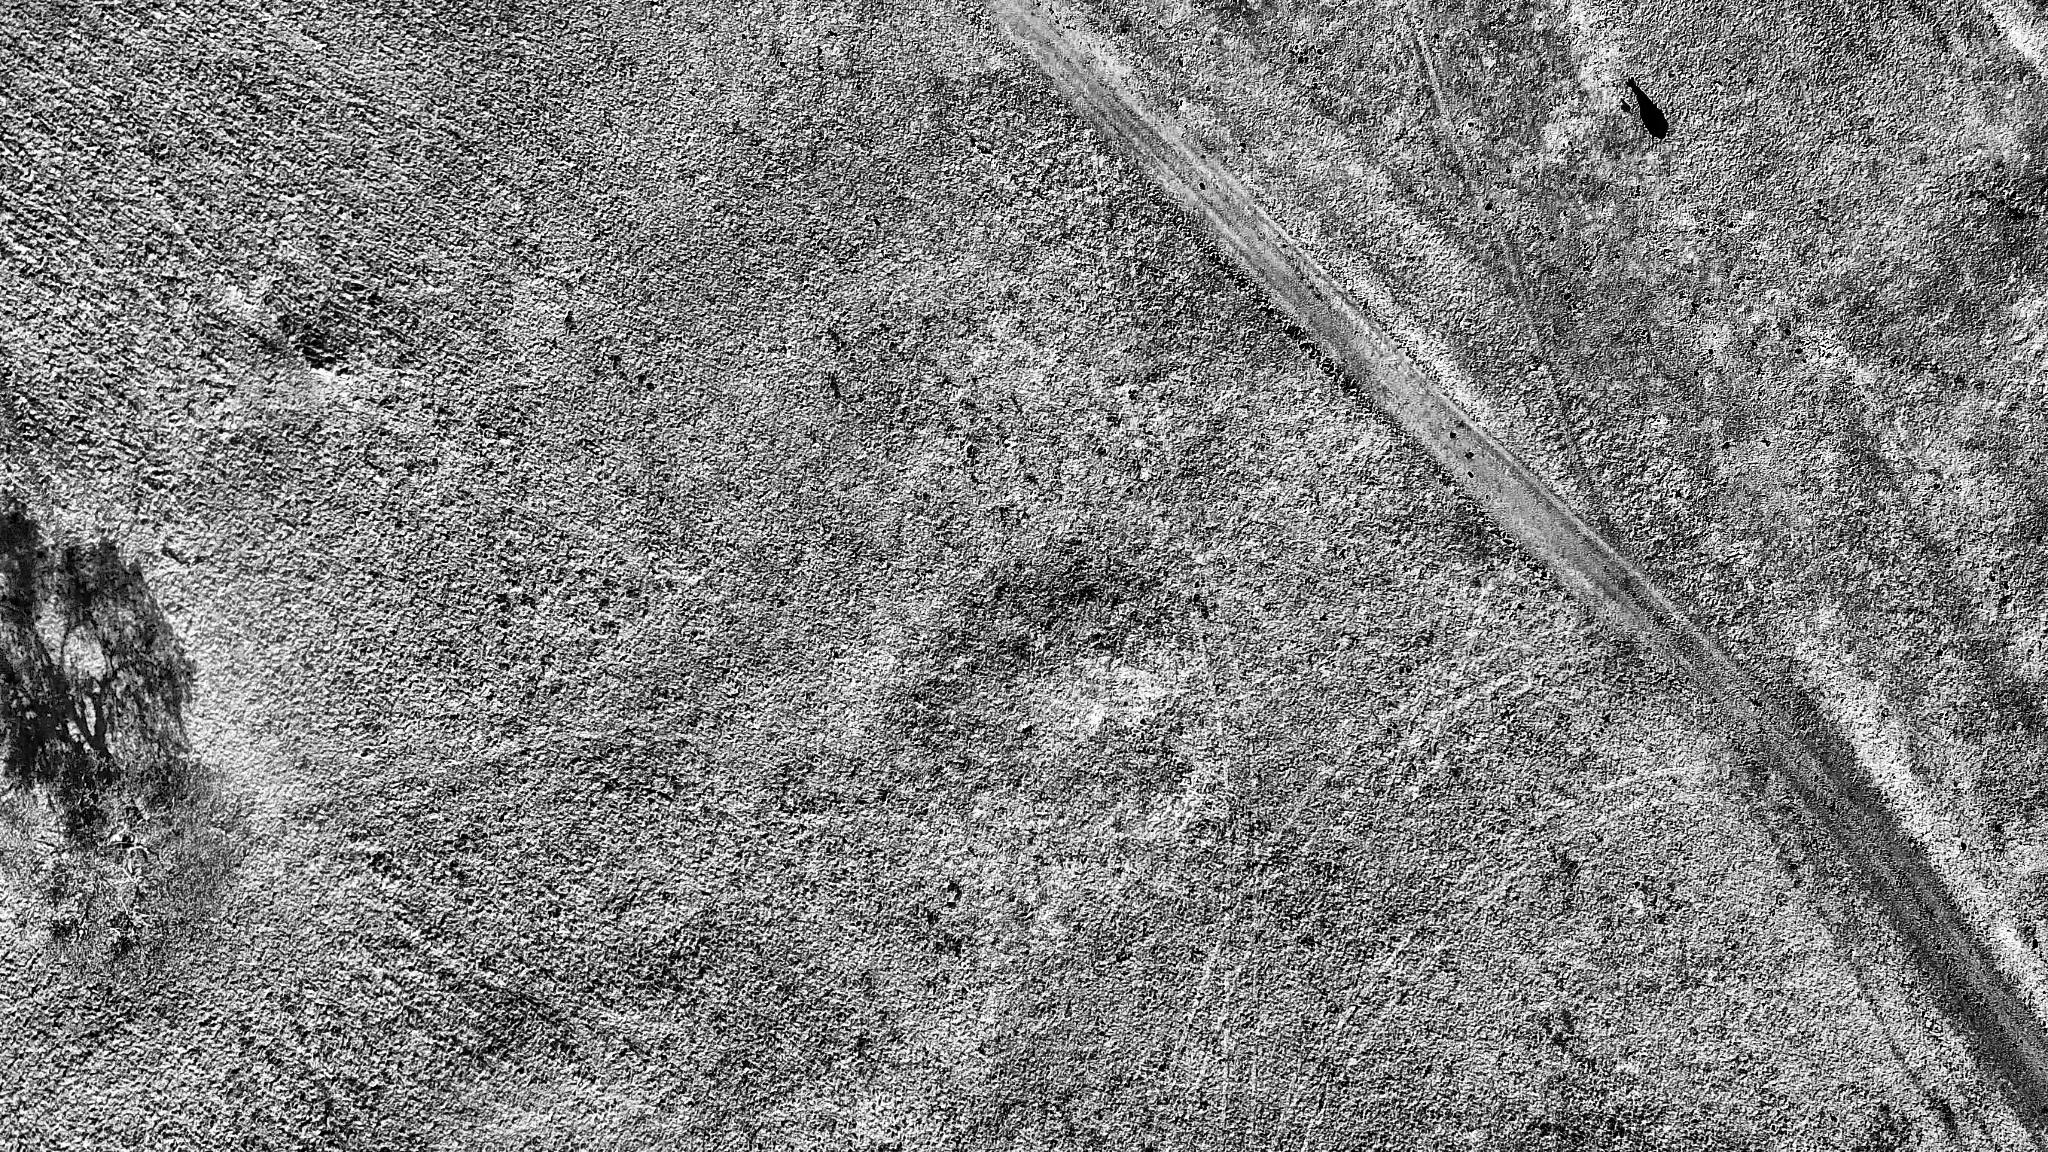herd: (1640, 103, 1671, 141)
